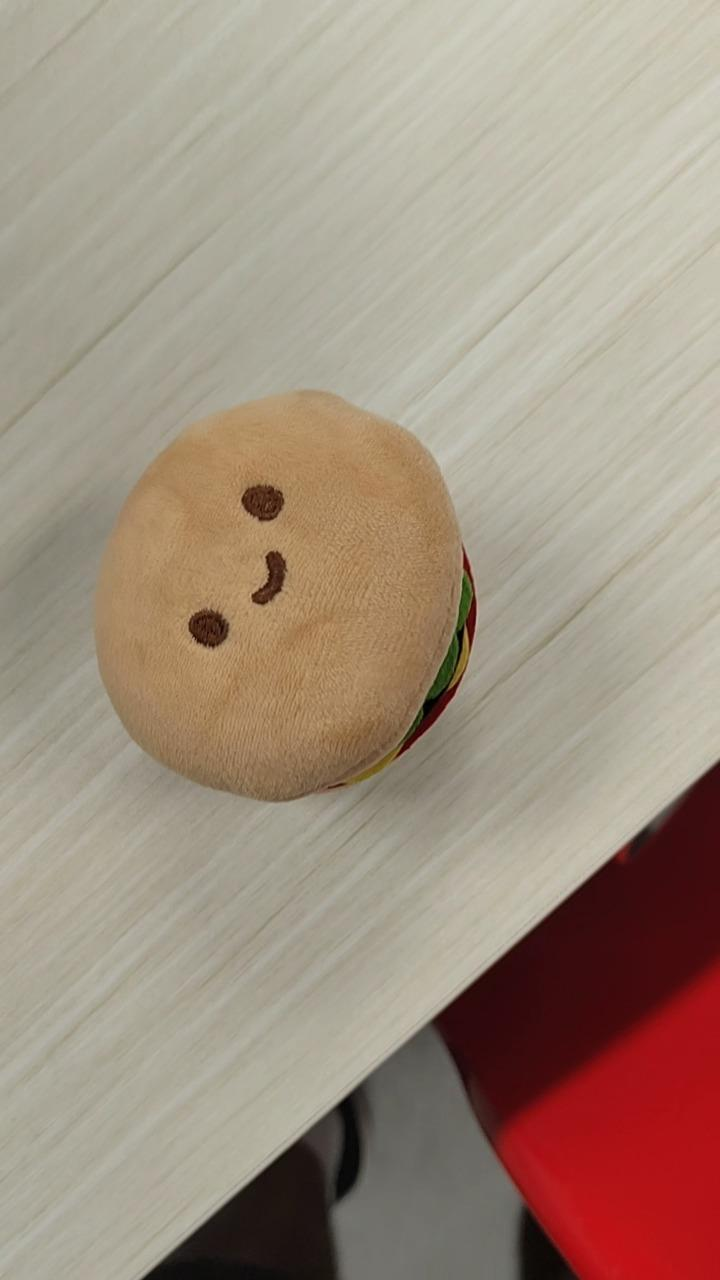hamburger: (92, 386, 478, 804)
